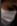with_mask: (1, 2, 17, 26)
